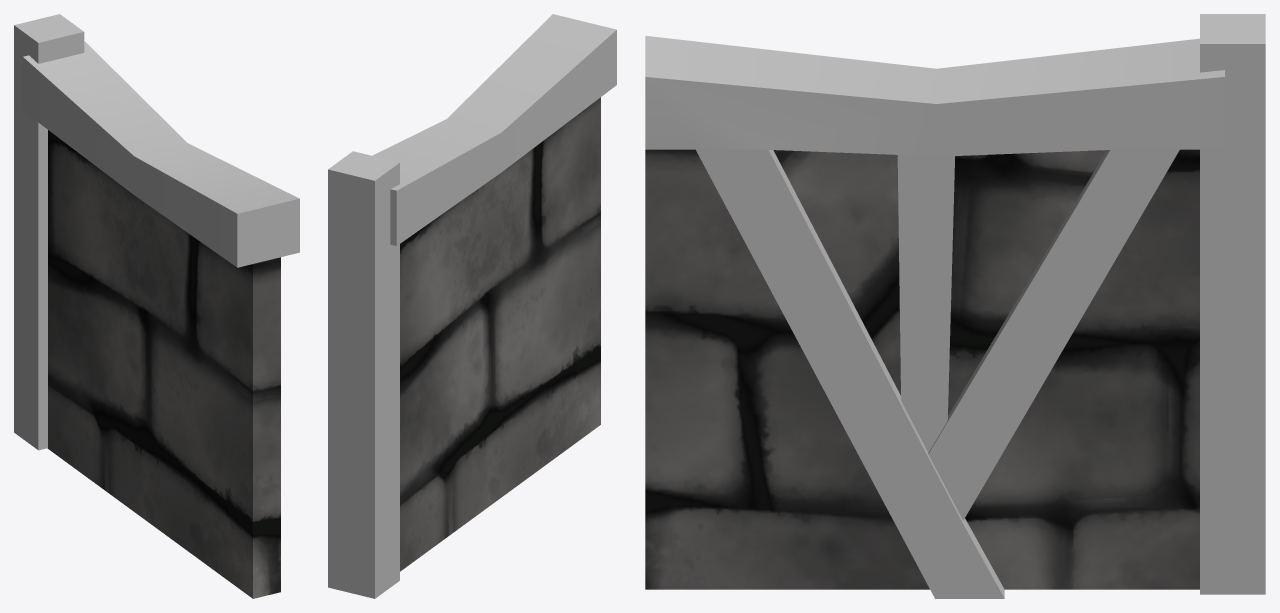
The model's file is Muur_4.fbx.
3 views of the same model, side by side, from view 1: azimuth 30°, elevation 25°; view 2: azimuth 150°, elevation 25°; view 3: azimuth 270°, elevation 25° (orthographic). The views are drawn at different scales.
Visible parts, largest first — view 1: muur_4, balk3; view 2: muur_4, balk3; view 3: muur_4, balk3.
Boxes of the visible parts, x1,y1,x2,y2 form: muur_4: (23, 41, 299, 598); balk3: (14, 14, 84, 450); muur_4: (372, 14, 616, 571); balk3: (328, 151, 399, 598); muur_4: (645, 35, 1224, 598); balk3: (1200, 14, 1265, 594).
Size of the model in its own units: 0.3358 by 2.1 by 2.14.
